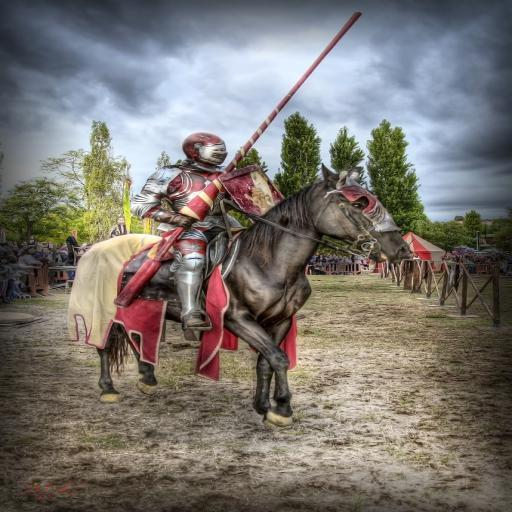horse: (76, 162, 418, 430)
